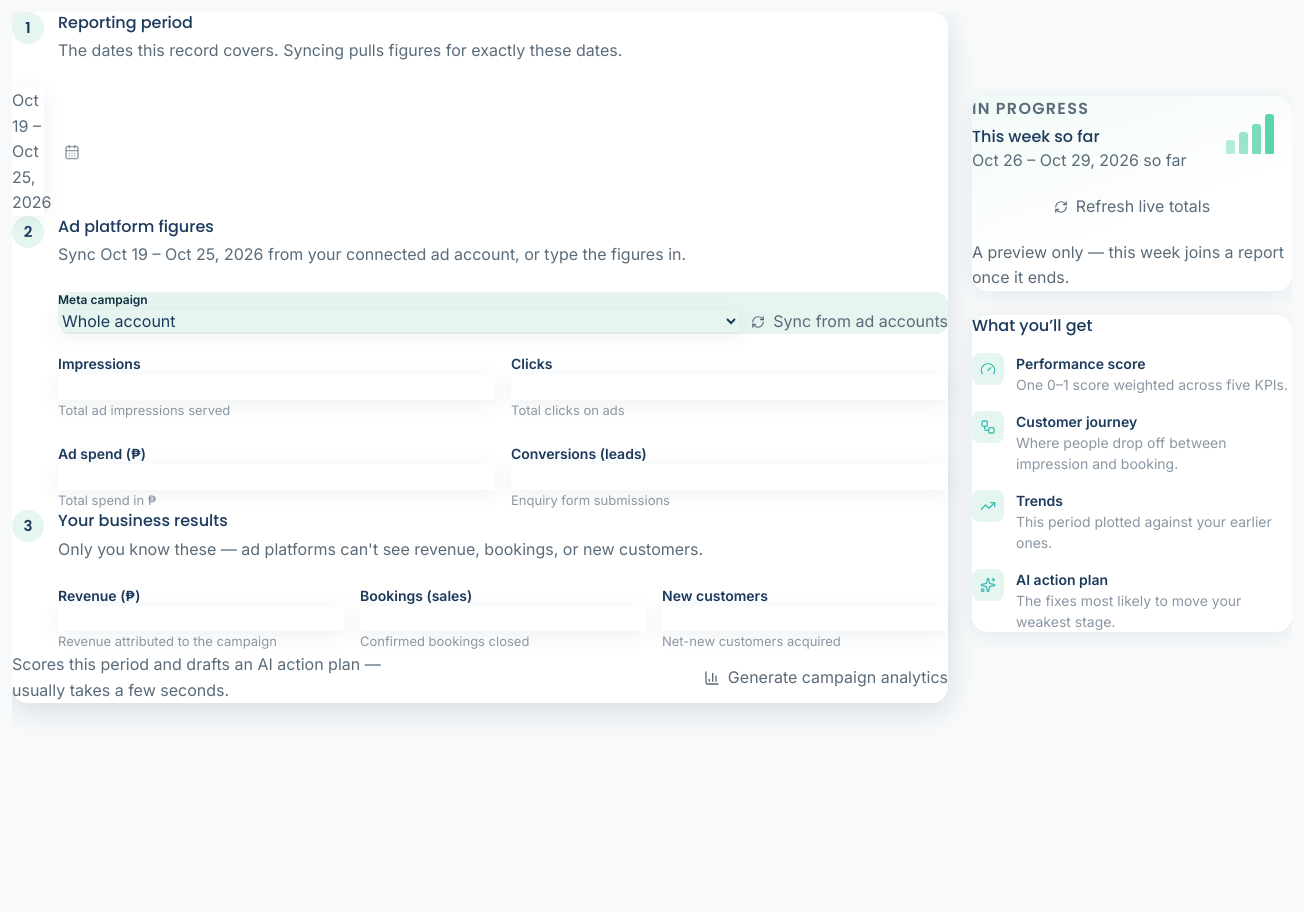
Test: IngestionForm live week-to-date panel › renders live stat tiles from the response
Click the button "Refresh live totals". click: (1132,207)
box: [972,190,1292,224]
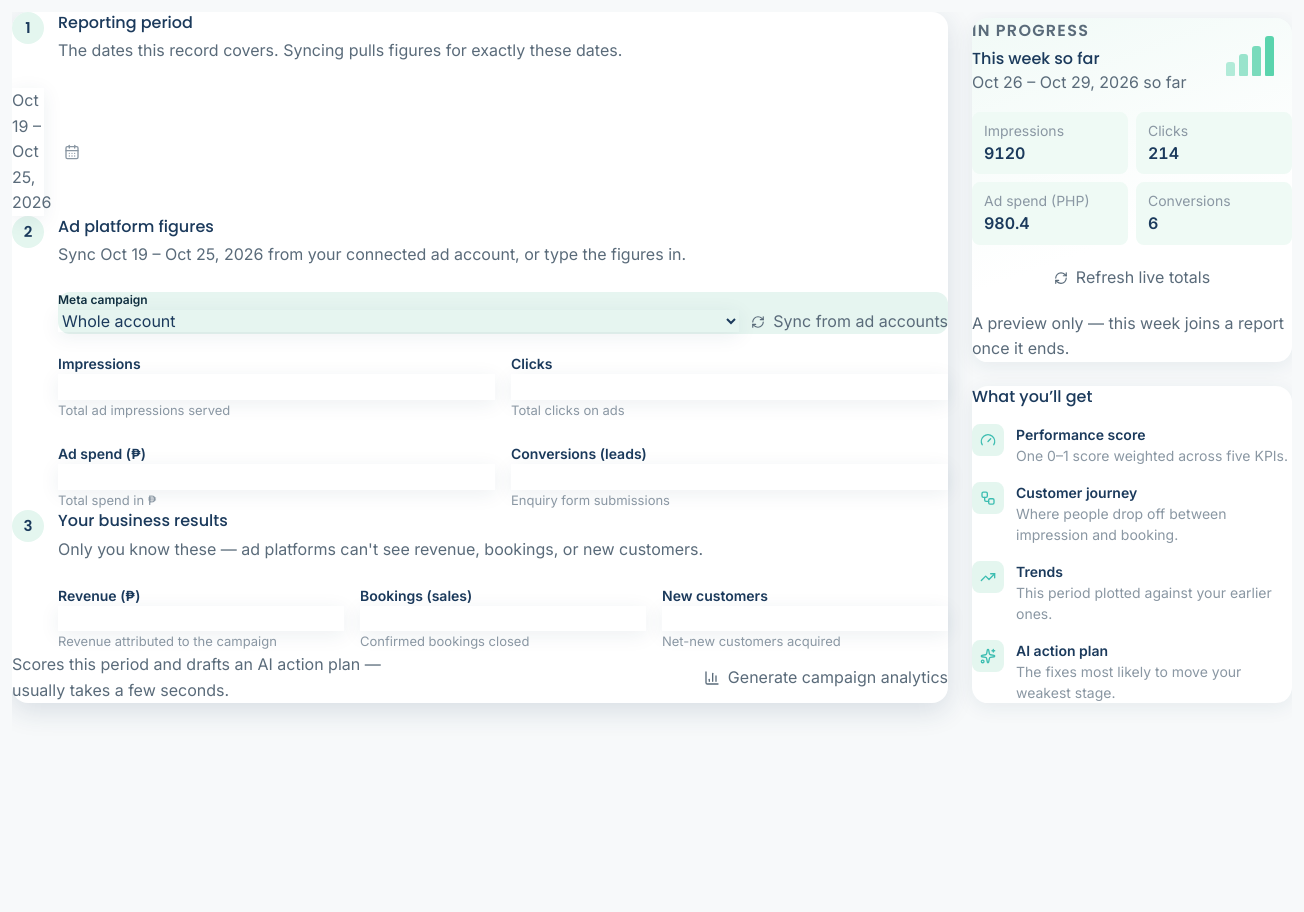
Now the text "9120" is shown, box [984,143,1025,163]
Now the text "214" is shown, box [1148,143,1179,163]
Now the text "980.4" is shown, box [984,213,1030,233]
